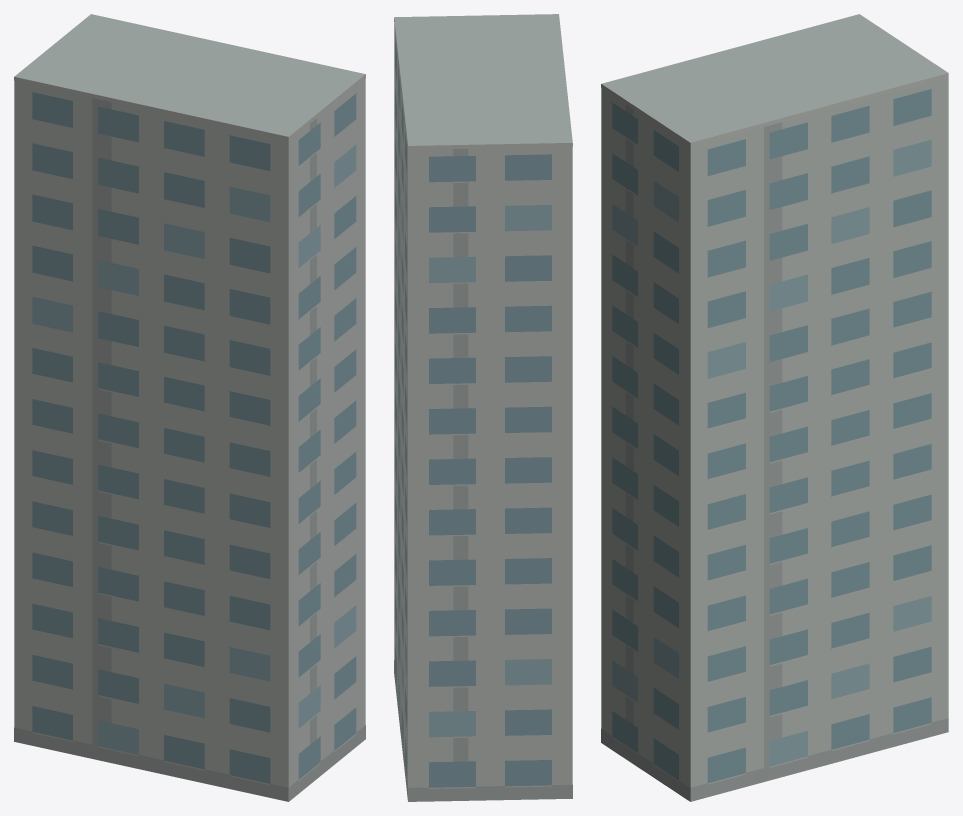
The model's file is residential-a904ad44-0429-4f85-abfc-dd9ee8ed4b4e.glb.
3 renders of one model, left to right at view 1: azimuth 30°, elevation 25°; view 2: azimuth 150°, elevation 25°; view 3: azimuth 270°, elevation 25°, orthographic.
Visible parts, largest first — view 1: residential-a904ad44-0429-4f85-abfc-dd9ee8ed4b4e.tmp; view 2: residential-a904ad44-0429-4f85-abfc-dd9ee8ed4b4e.tmp; view 3: residential-a904ad44-0429-4f85-abfc-dd9ee8ed4b4e.tmp.
Boxes of the visible parts, left/top/right/bottom form: residential-a904ad44-0429-4f85-abfc-dd9ee8ed4b4e.tmp: left=14, top=14, right=365, bottom=801; residential-a904ad44-0429-4f85-abfc-dd9ee8ed4b4e.tmp: left=394, top=14, right=572, bottom=801; residential-a904ad44-0429-4f85-abfc-dd9ee8ed4b4e.tmp: left=601, top=14, right=948, bottom=801.
Bounding box in the file's own units: 16.78 × 40 × 19.12.
